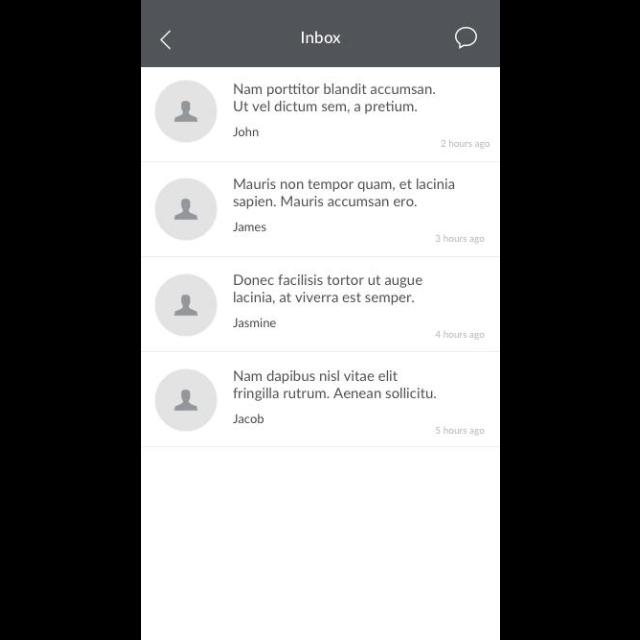icon: (155, 81, 217, 143), (156, 179, 218, 241), (155, 275, 217, 337), (156, 370, 217, 432), (454, 26, 478, 49), (159, 31, 171, 51)
text: (232, 178, 454, 210), (233, 83, 435, 115), (232, 371, 436, 402), (233, 274, 422, 304), (440, 138, 490, 150), (435, 426, 485, 436), (233, 317, 277, 328), (301, 32, 341, 44), (436, 330, 484, 340), (436, 236, 484, 244), (232, 126, 260, 138), (234, 223, 266, 233), (232, 415, 264, 425)
toolbar: (142, 1, 500, 68)
